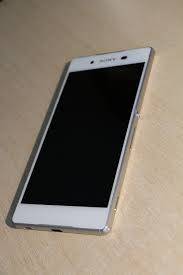sony: (1, 43, 157, 234)
